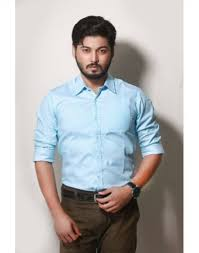F_belt: (56, 187, 148, 201)
F_dress pants: (50, 187, 146, 253)
F_shirt: (34, 72, 166, 190)
